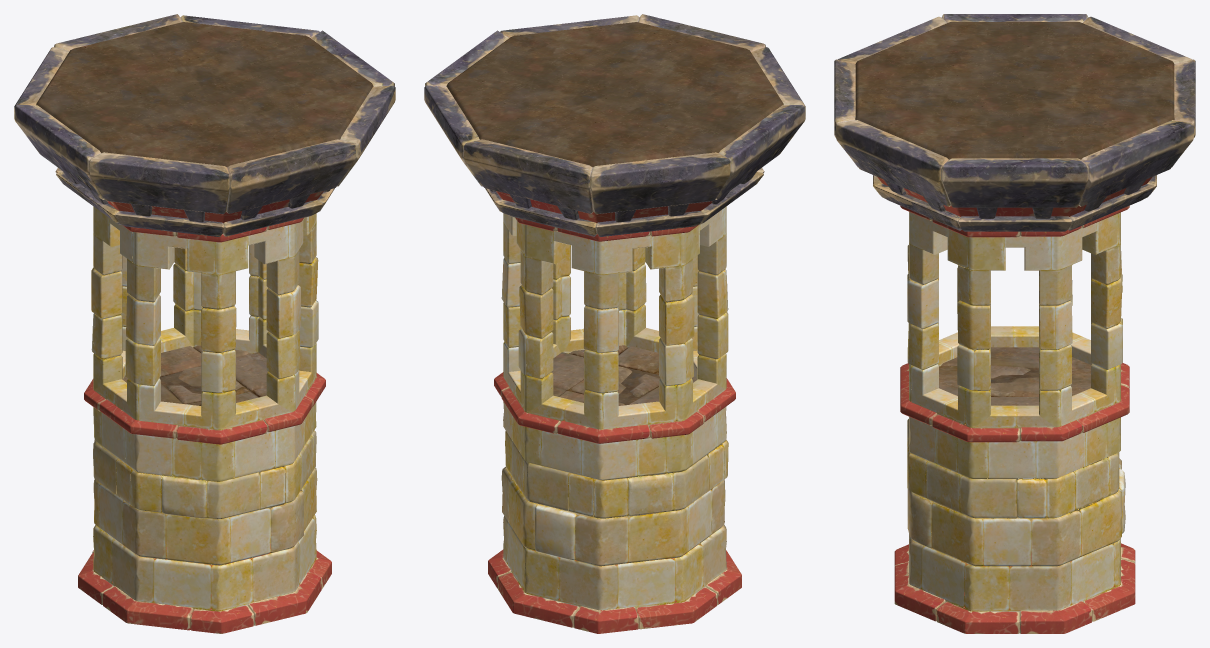
3 views of the same model, side by side, from view 1: azimuth 30°, elevation 25°; view 2: azimuth 150°, elevation 25°; view 3: azimuth 270°, elevation 25° (orthographic).
Visible parts, largest first — view 1: SM_Menaphite_Ruins_Tower_02v2_LOD0; view 2: SM_Menaphite_Ruins_Tower_02v2_LOD0; view 3: SM_Menaphite_Ruins_Tower_02v2_LOD0.
Boxes of the visible parts, x1,y1,x2,y2 form: SM_Menaphite_Ruins_Tower_02v2_LOD0: [14, 14, 395, 633]; SM_Menaphite_Ruins_Tower_02v2_LOD0: [424, 14, 805, 633]; SM_Menaphite_Ruins_Tower_02v2_LOD0: [834, 14, 1195, 633].
Size of the model in its own units: 6.74 by 10.19 by 6.74.
6 materials, 6 textured.
